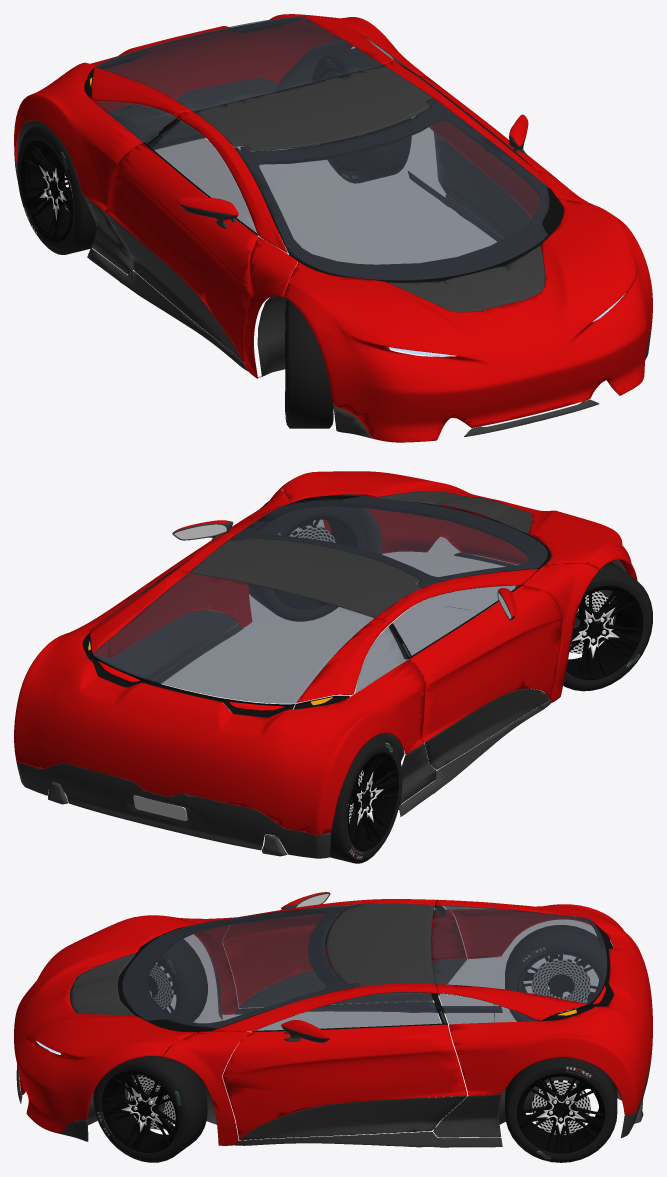
Rendered from car-concept.glb.
3 views of the same model, one above another, from view 1: azimuth 30°, elevation 25°; view 2: azimuth 150°, elevation 25°; view 3: azimuth 270°, elevation 25° (orthographic). The views are drawn at different scales.
Visible parts, largest first — view 1: BodyHood, BodyWindshield, BodyRearPanelsColor1, BodyRearwindow, BodyDoorRColor1, BodyRoofPanel, BodyWindshieldGasket, BodyPanelsColor2, BodyPillars, BodyHoodTopgrill, WheelFrontR, BodyDoorLColor2 (+10 smaller); view 2: BodyRearPanelsColor1, BodyRearwindow, BodyWindshield, BodyPanelsColor2, BodyDoorRColor1, BodyHood, BodyRoofPanel, BodyPillars, BodyWindshieldGasket, WheelFrontRRim, BodyDoorLColor1, BodyDoorLColor2 (+12 smaller); view 3: BodyRearPanelsColor1, BodyWindshield, BodyDoorLColor1, BodyHood, BodyRearwindow, BodyPillars, BodyRoofPanel, BodyPanelsColor2, BodyDoorRColor1, BodyWindshieldGasket, BodyDoorLColor2, WheelFrontL (+17 smaller).
Part boxes in pixels (x1,y1,x2,y2): BodyHood: (283,198,652,442); BodyWindshield: (234,98,549,280); BodyRearPanelsColor1: (14,14,434,210); BodyRearwindow: (94,16,382,111); BodyDoorRColor1: (104,143,257,363); BodyRoofPanel: (193,65,432,150); BodyWindshieldGasket: (234,99,563,282); BodyPanelsColor2: (15,78,651,438); BodyPillars: (176,61,598,378); BodyHoodTopgrill: (388,245,544,312); WheelFrontR: (285,299,333,428); BodyDoorLColor2: (434,132,530,238); BodyRearPanelsColor1: (14,569,425,834); BodyRearwindow: (92,572,373,703); BodyWindshield: (229,496,547,587); BodyPanelsColor2: (16,552,550,858); BodyDoorRColor1: (409,585,562,742); BodyHood: (279,471,637,580); BodyRoofPanel: (189,537,422,617); BodyPillars: (175,489,599,702); BodyWindshieldGasket: (231,495,550,587); WheelFrontRRim: (566,585,643,679); BodyDoorLColor1: (107,517,250,658); BodyDoorLColor2: (112,610,238,681); BodyRearPanelsColor1: (436,899,652,1115); BodyWindshield: (122,904,358,1028); BodyDoorLColor1: (222,1024,467,1139); BodyHood: (14,915,196,1133); BodyRearwindow: (431,905,607,1004); BodyPillars: (163,899,437,1145); BodyRoofPanel: (326,903,434,986); BodyPanelsColor2: (16,995,652,1147); BodyDoorRColor1: (223,910,466,1007); BodyWindshieldGasket: (118,905,357,1032); BodyDoorLColor2: (240,1096,467,1140); WheelFrontL: (93,1050,207,1162).
Bounding box in the file's own units: 2.54 × 1.15 × 4.36.
15 materials, 2 textured.
